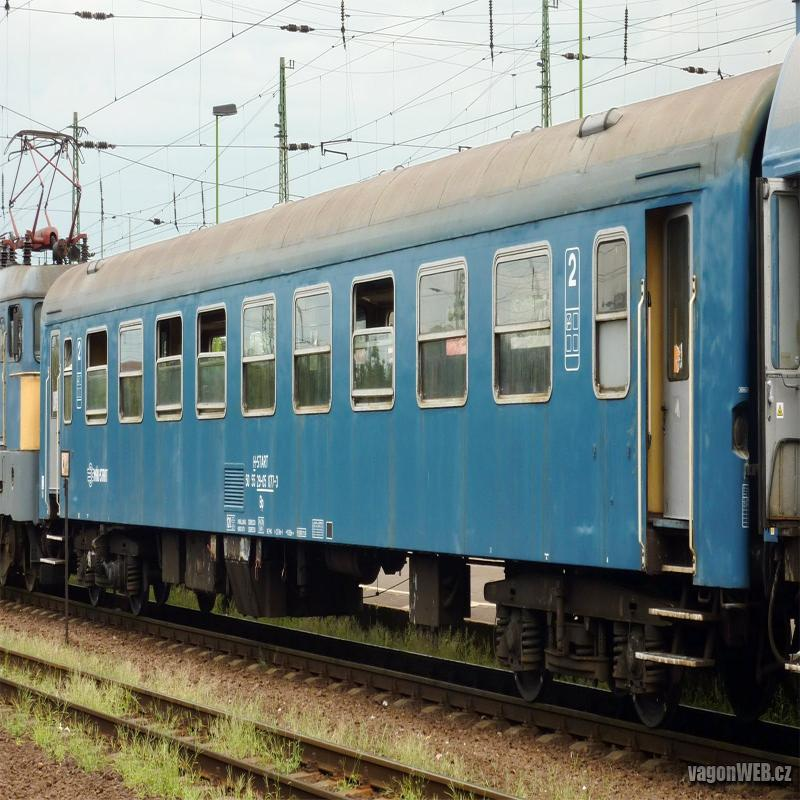train: (37, 64, 782, 751), (1, 127, 92, 597)
